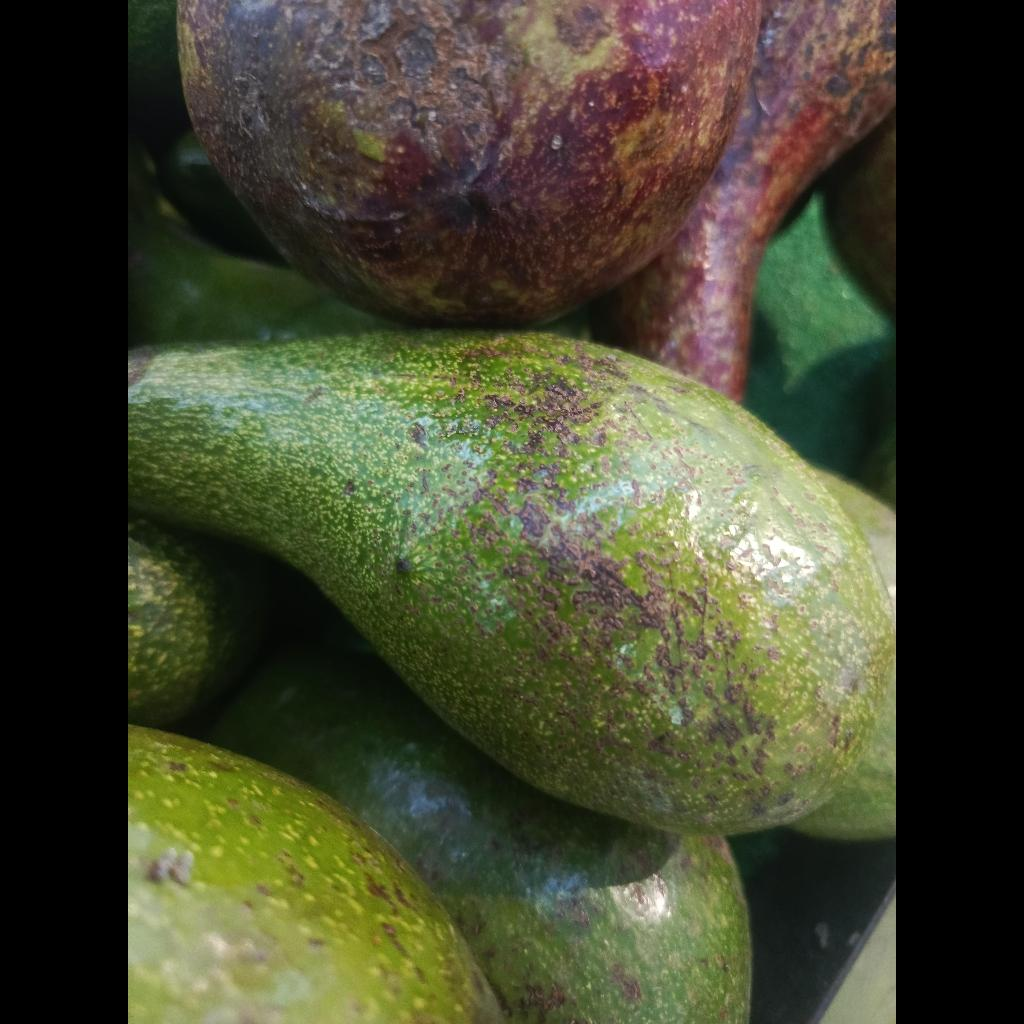antracnosis_fruto: (128, 330, 896, 834), (128, 725, 503, 1024)
rona: (178, 0, 759, 325), (593, 0, 896, 401)
